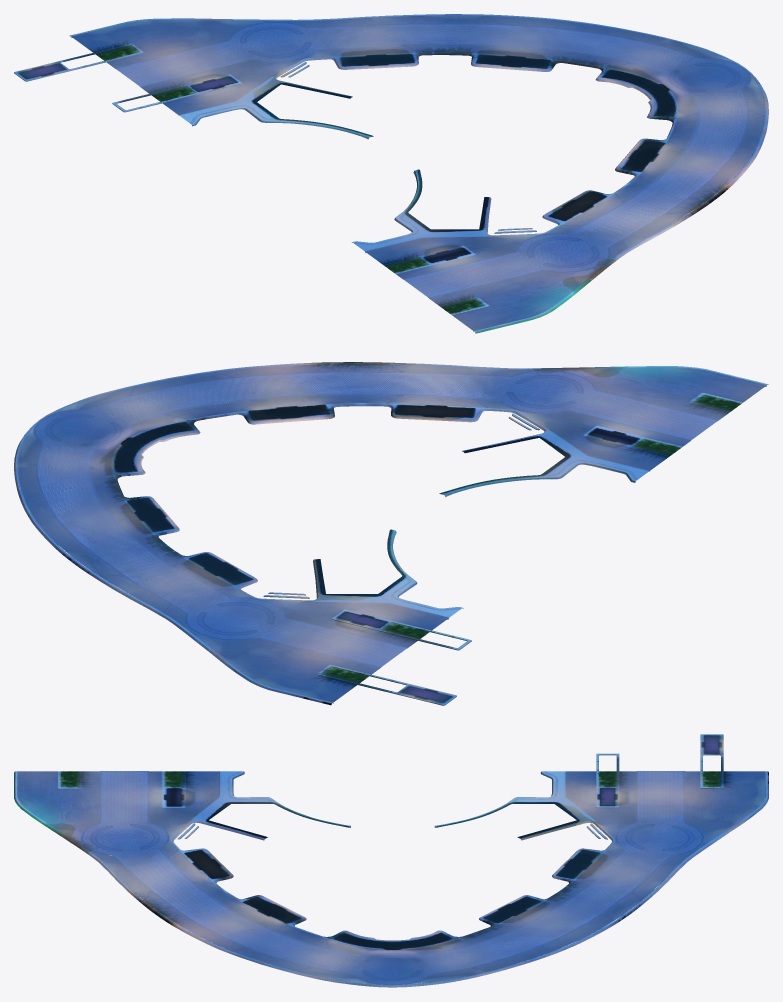
The model's file is pref_sm_beach_WSJ_techsmall_001_bk_main_road01_lv0.fbx.
3 views of the same model, one above another, from view 1: azimuth 30°, elevation 25°; view 2: azimuth 150°, elevation 25°; view 3: azimuth 270°, elevation 25° (orthographic). The views are drawn at different scales.
Visible parts, largest first — view 1: pref_sm_beach_WSJ_techsmall_001_bk_main_road01_lv0; view 2: pref_sm_beach_WSJ_techsmall_001_bk_main_road01_lv0; view 3: pref_sm_beach_WSJ_techsmall_001_bk_main_road01_lv0.
Boxes of the visible parts, <box> form: pref_sm_beach_WSJ_techsmall_001_bk_main_road01_lv0: <box>14,14,768,333</box>; pref_sm_beach_WSJ_techsmall_001_bk_main_road01_lv0: <box>14,362,768,705</box>; pref_sm_beach_WSJ_techsmall_001_bk_main_road01_lv0: <box>14,734,768,987</box>.
Size of the model in its own units: 55.5 by 0.2236 by 70.37.
Materials: 1 (1 with a texture image).
